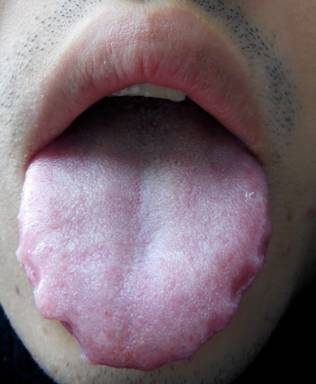baitaishe: (15, 151, 272, 371)
chihenshe: (16, 251, 96, 365), (205, 229, 272, 341)
